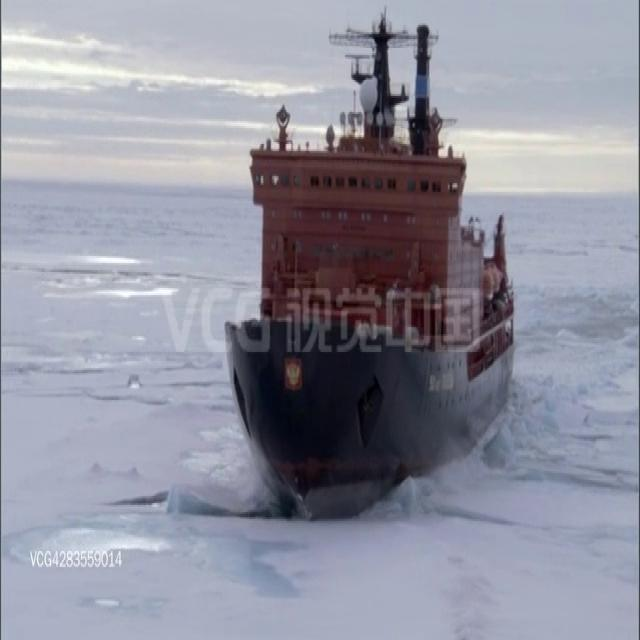cargoship: (224, 1, 511, 519)
